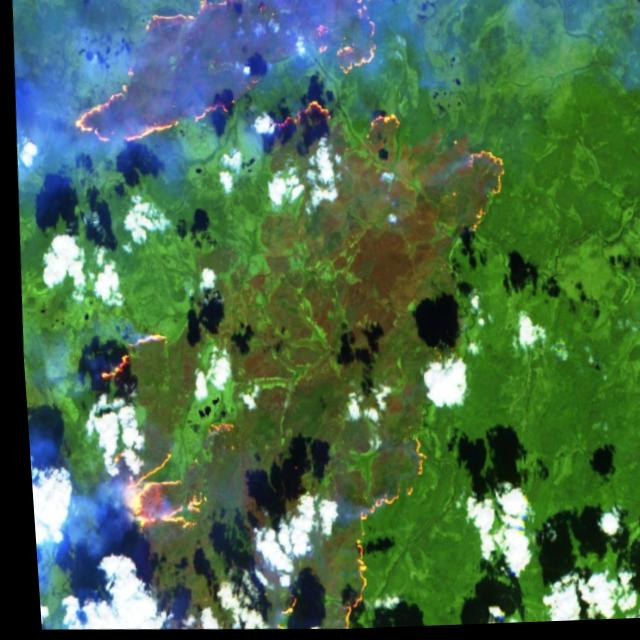fire: (51, 0, 518, 257), (71, 308, 240, 543), (318, 426, 433, 631), (479, 246, 480, 247)
